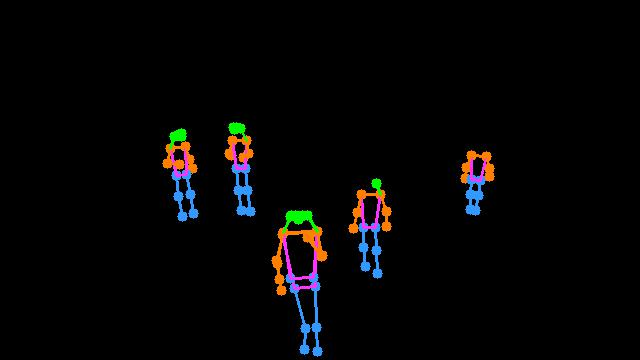normal: (257, 167, 397, 360), (153, 108, 270, 238)
